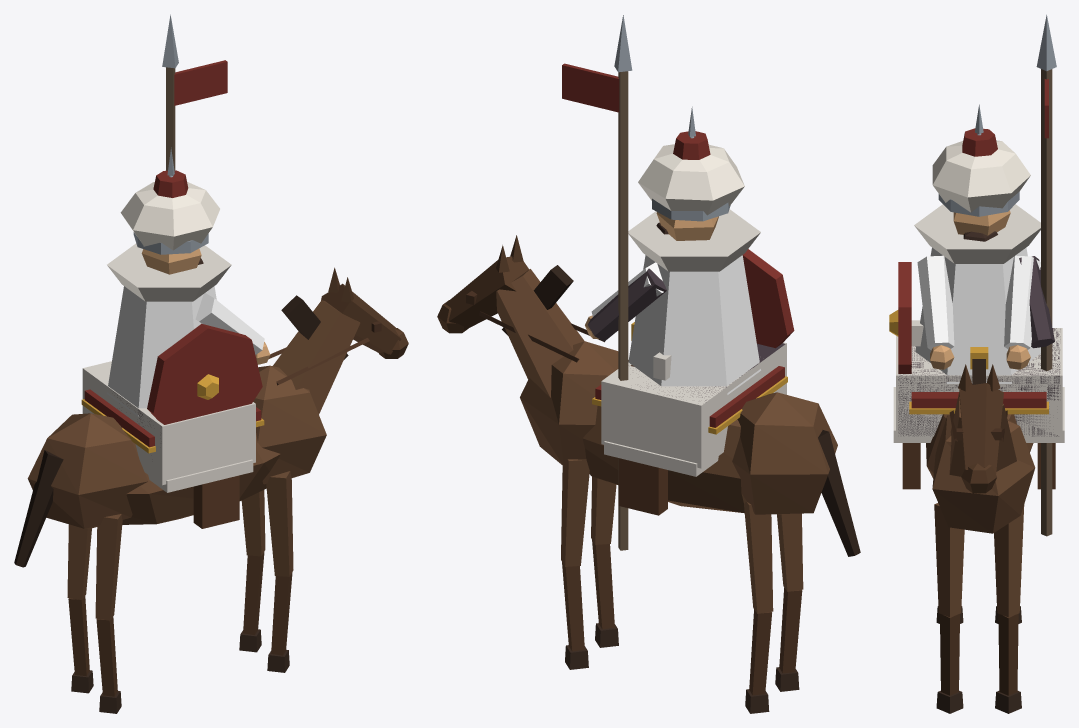
File: riders.glb
3 renders of one model, left to right at view 1: azimuth 30°, elevation 25°; view 2: azimuth 150°, elevation 25°; view 3: azimuth 270°, elevation 25°, orthographic. The views are drawn at different scales.
Visible parts, largest first — view 1: horse, cloak, guard, rider; view 2: horse, cloak, guard, rider; view 3: horse, cloak, guard, rider.
Part boxes in pixels (x1,y1,x2,y2): horse: (14, 267, 408, 713); cloak: (82, 243, 264, 492); guard: (113, 14, 262, 528); rider: (120, 170, 270, 364); horse: (437, 235, 860, 713); cloak: (591, 209, 786, 476); guard: (562, 15, 794, 550); rider: (585, 131, 744, 340); horse: (909, 359, 1048, 713); cloak: (893, 204, 1064, 442); guard: (889, 14, 1060, 536); rider: (930, 128, 1030, 369).
Size of the model in its own units: 2.09 by 3.25 by 0.78.
